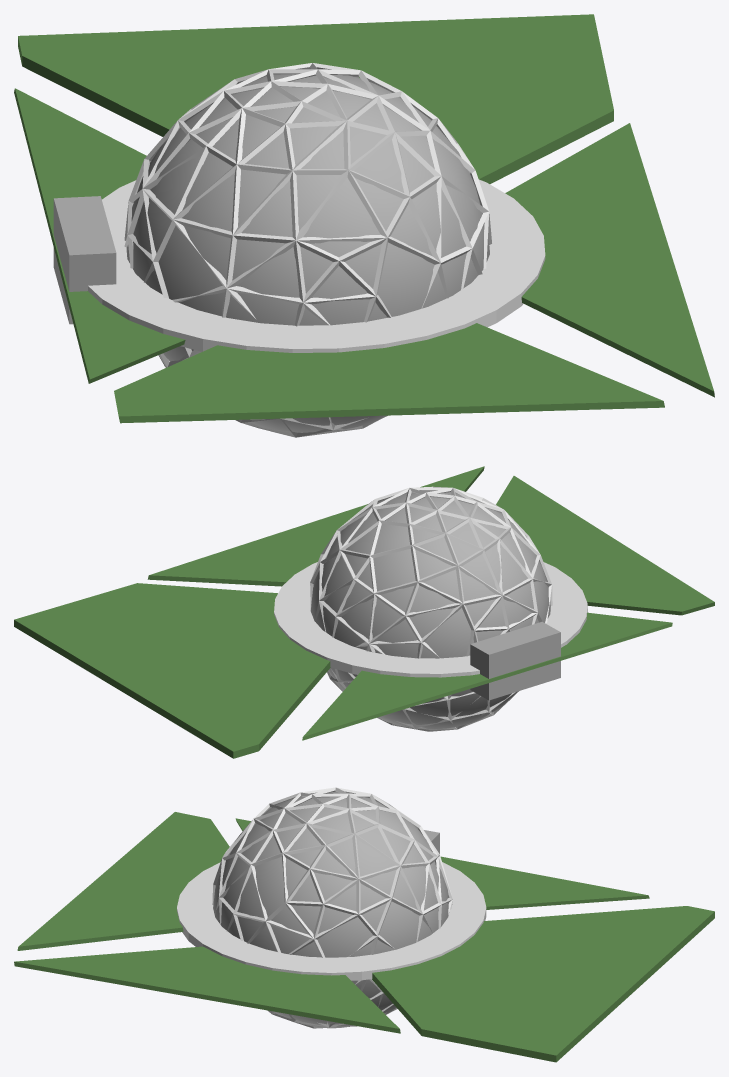
File: DomeOfVisions.fbx
3 renders of one model, top to bottom at view 1: azimuth 30°, elevation 25°; view 2: azimuth 150°, elevation 25°; view 3: azimuth 270°, elevation 25°, orthographic. The views are drawn at different scales.
Visible parts, largest first — view 1: Cube.016; view 2: Cube.016; view 3: Cube.016.
Part boxes in pixels (bbox=[...]): Cube.016: bbox=[14, 14, 714, 437]; Cube.016: bbox=[14, 466, 714, 758]; Cube.016: bbox=[14, 787, 714, 1062].
Size of the model in its own units: 6317 by 2641 by 7668.
